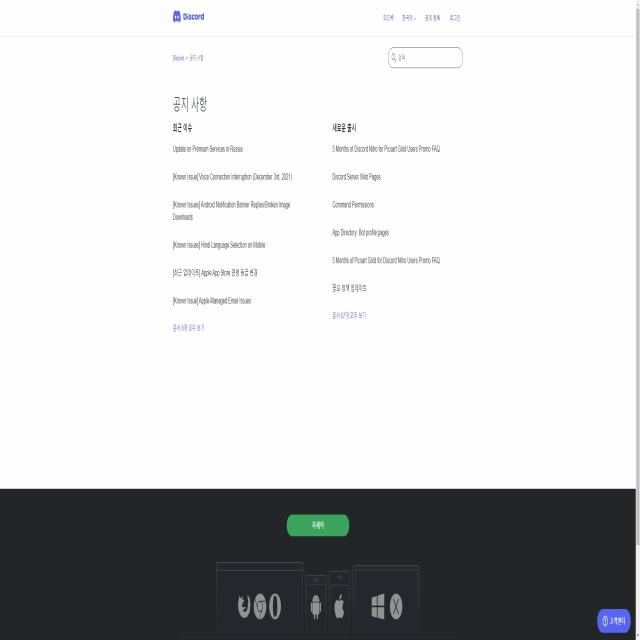menu-bar: (379, 9, 463, 29)
search: (387, 46, 464, 72)
tab-bar: (169, 48, 208, 68)
